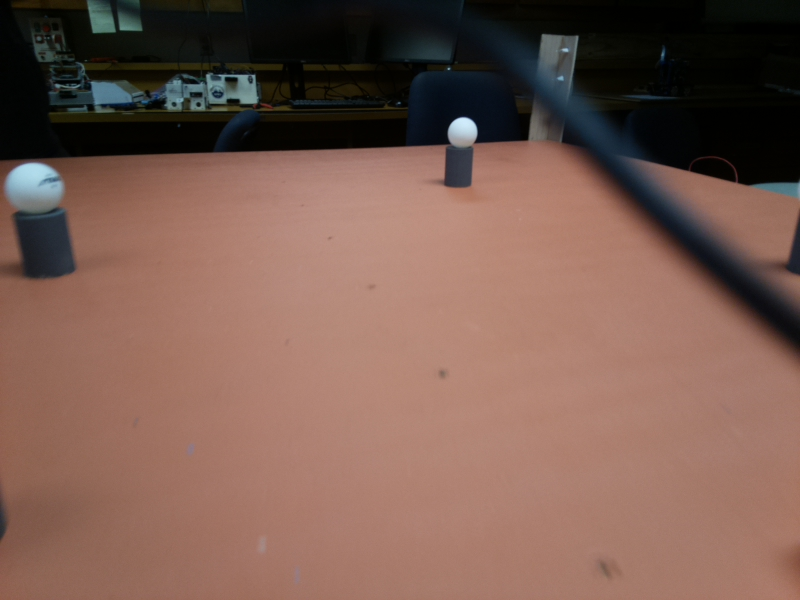corner: (536, 33, 582, 145)
obstacle: (9, 152, 77, 283), (444, 111, 482, 186)
